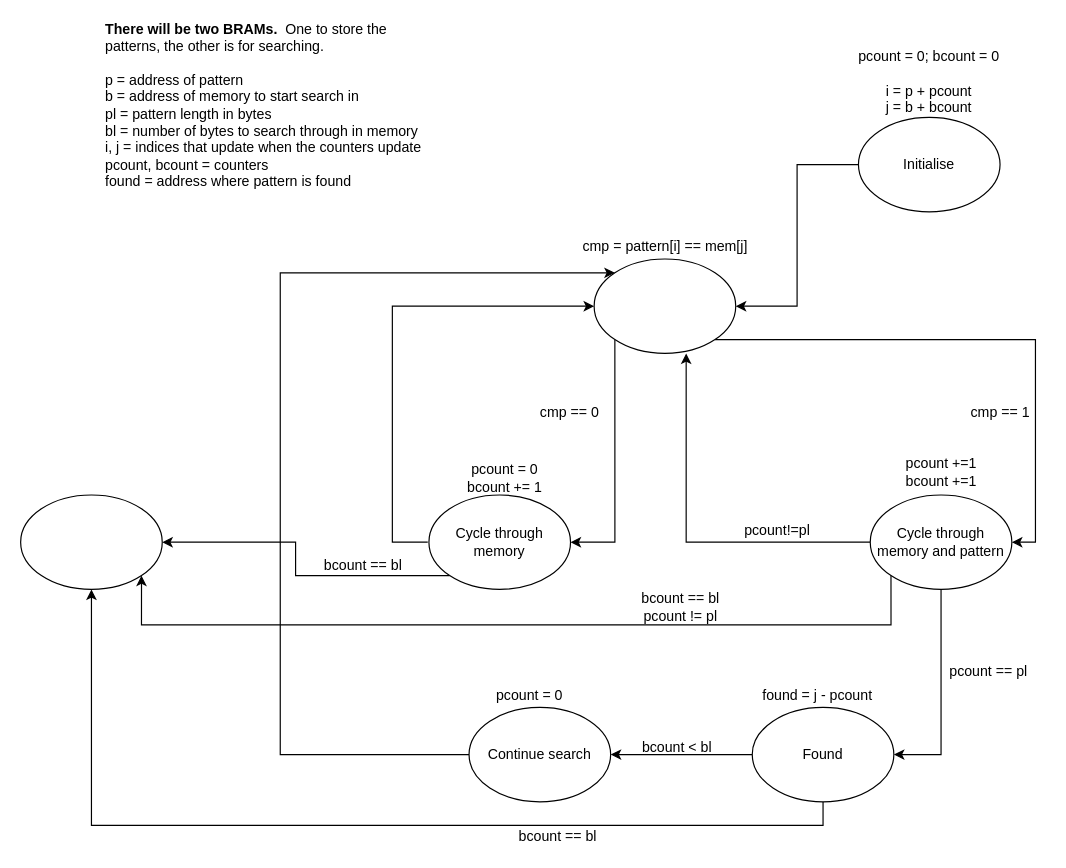
Some shapes in this 1066 by 868 pixel diagram are drawn without their labels. Each missing label, with the centre of its shape:
"Compare byte" goes at [664,305].
"Done" goes at [90,541].
